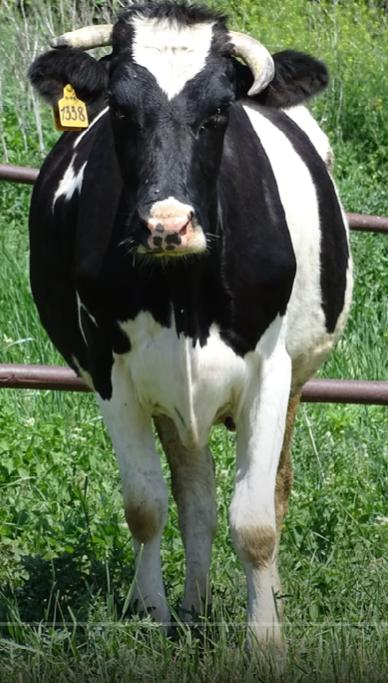cow: (30, 7, 354, 651)
